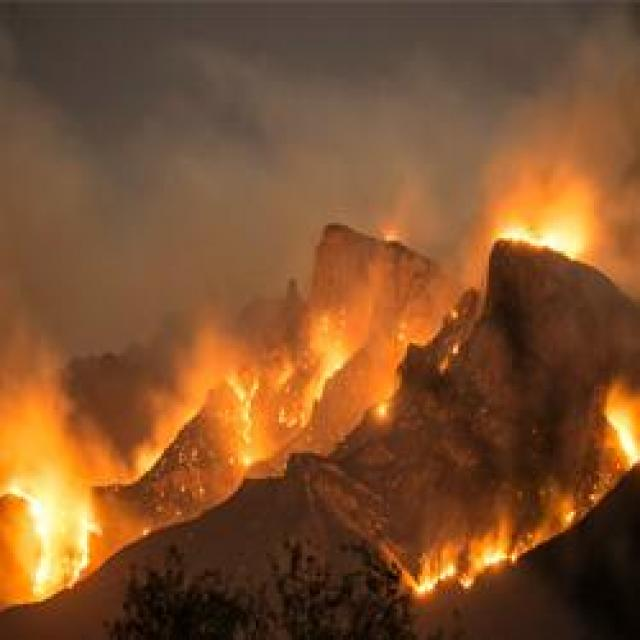fire: (220, 316, 410, 486), (5, 441, 112, 598), (411, 513, 598, 594), (471, 172, 590, 280), (577, 351, 640, 526)
